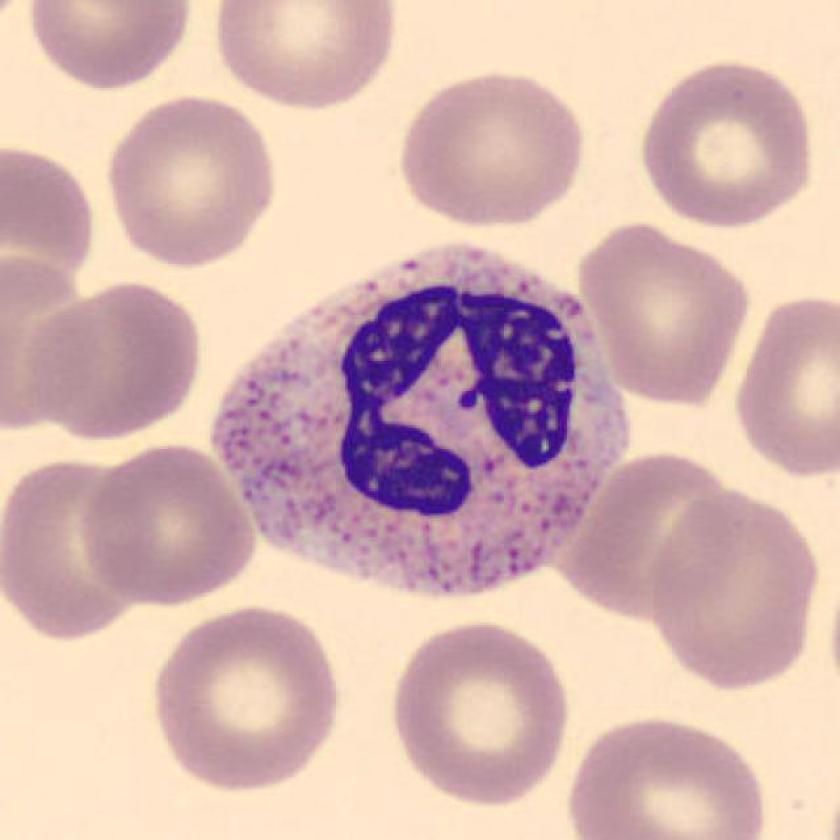neutrophil: (213, 245, 629, 590)
